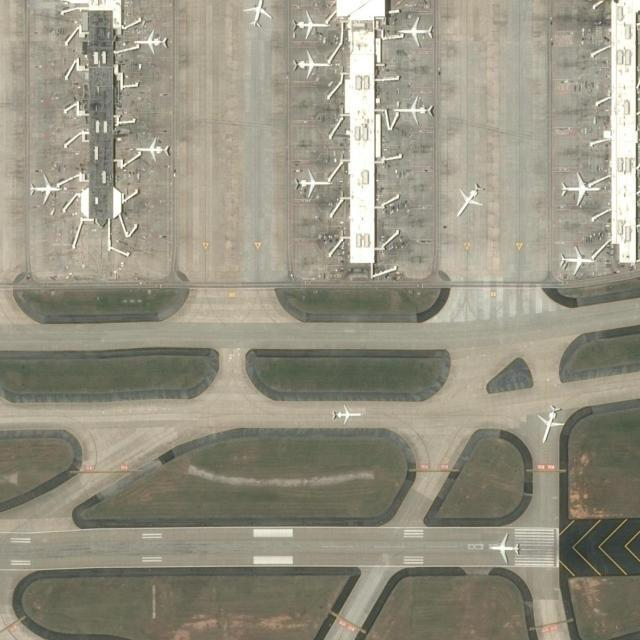Aircraft: (559, 173, 602, 207), (294, 169, 336, 199), (294, 51, 336, 81), (400, 16, 437, 50), (394, 96, 436, 124), (537, 408, 567, 444), (559, 246, 597, 274), (457, 184, 487, 219), (291, 13, 331, 39), (29, 174, 63, 204), (488, 534, 523, 563), (135, 138, 174, 162), (243, 0, 274, 30), (134, 31, 170, 55), (331, 405, 363, 426)
